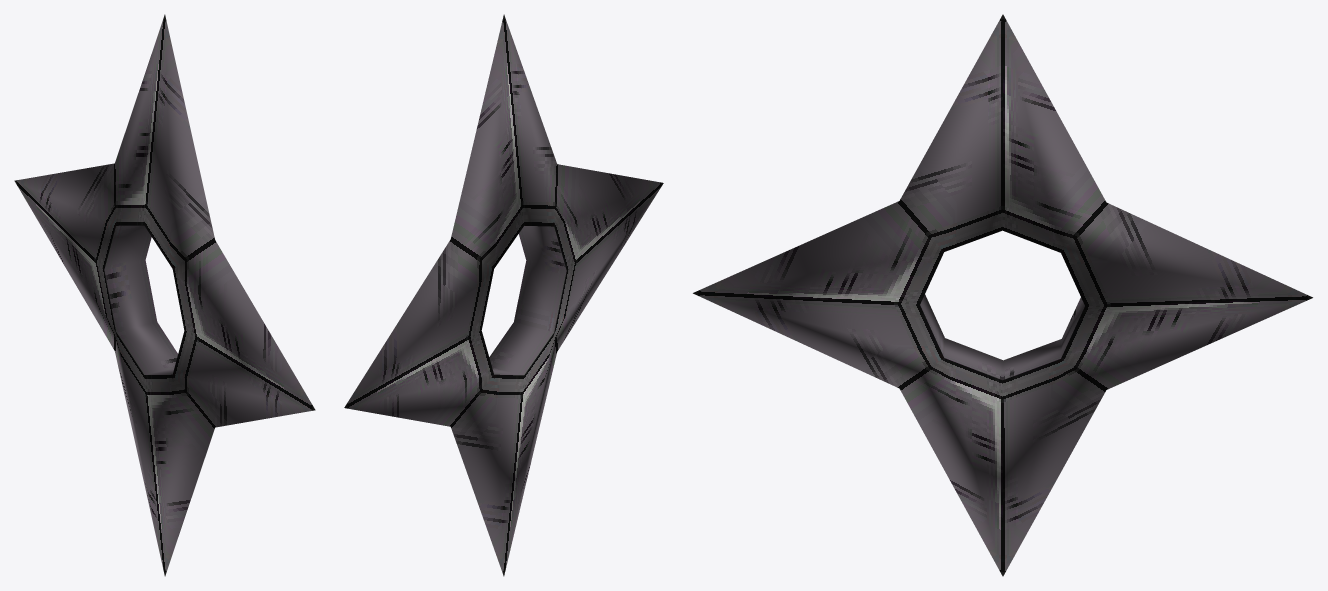
The model's file is kunai_bomb_4_base.fbx.
3 views of the same model, side by side, from view 1: azimuth 30°, elevation 25°; view 2: azimuth 150°, elevation 25°; view 3: azimuth 270°, elevation 25° (orthographic).
Visible parts, largest first — view 1: MilkshapeExported1; view 2: MilkshapeExported1; view 3: MilkshapeExported1.
Part boxes in pixels (bbox=[...]): MilkshapeExported1: bbox=[14, 14, 315, 576]; MilkshapeExported1: bbox=[344, 14, 663, 576]; MilkshapeExported1: bbox=[693, 14, 1312, 576].
Bounding box in the file's own units: 2.59 × 32.17 × 32.16.
Materials: 1 (1 with a texture image).
